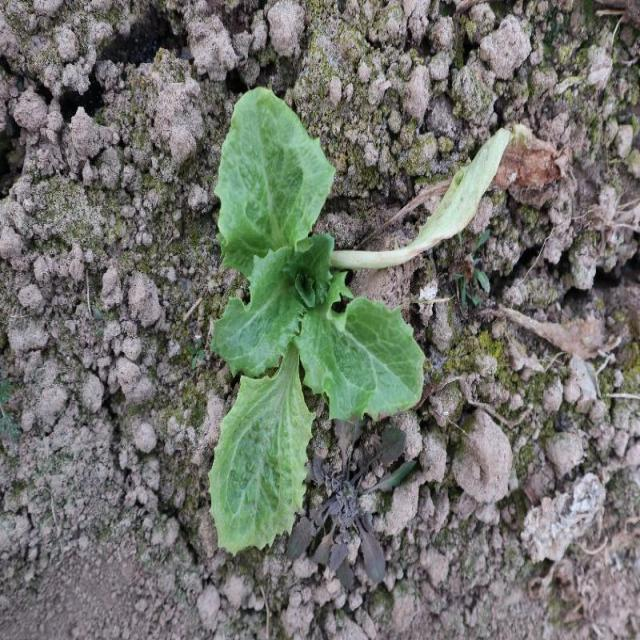crop: (210, 86, 425, 557)
